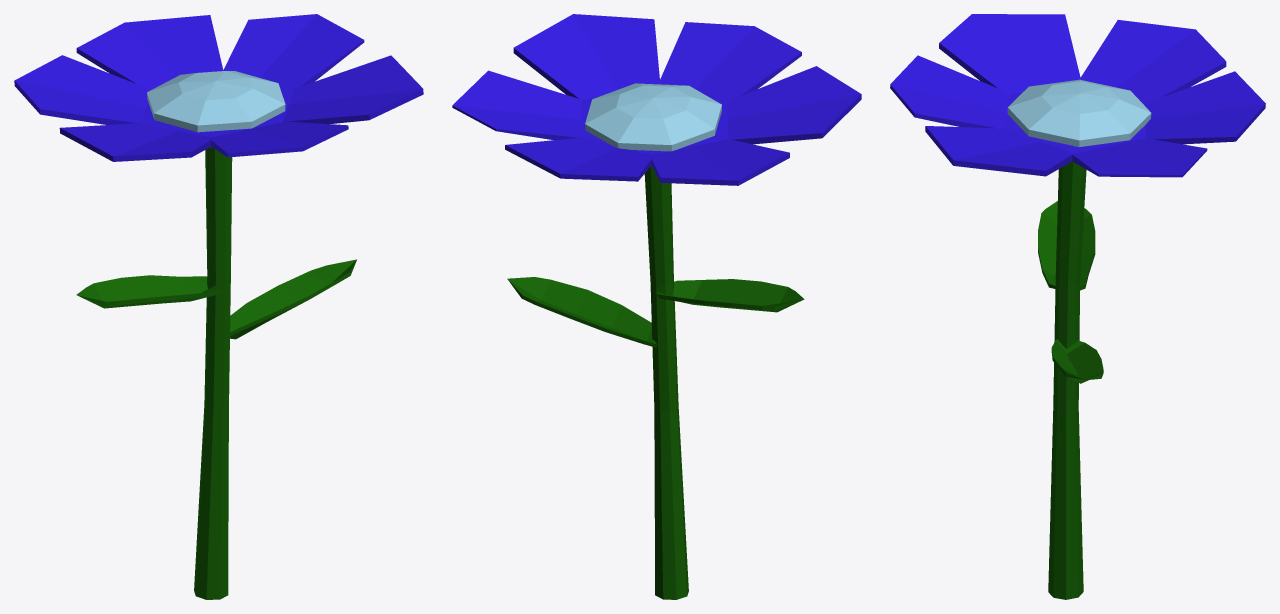
The model's file is flower-4.fbx.
3 renders of one model, left to right at view 1: azimuth 30°, elevation 25°; view 2: azimuth 150°, elevation 25°; view 3: azimuth 270°, elevation 25°, orthographic.
Visible parts, largest first — view 1: Flower 4; view 2: Flower 4; view 3: Flower 4.
Part boxes in pixels (box(x1,y1,x2,y2)): Flower 4: box(14, 14, 423, 599); Flower 4: box(452, 14, 861, 599); Flower 4: box(890, 14, 1265, 599).
Size of the model in its own units: 105 by 159 by 106.
